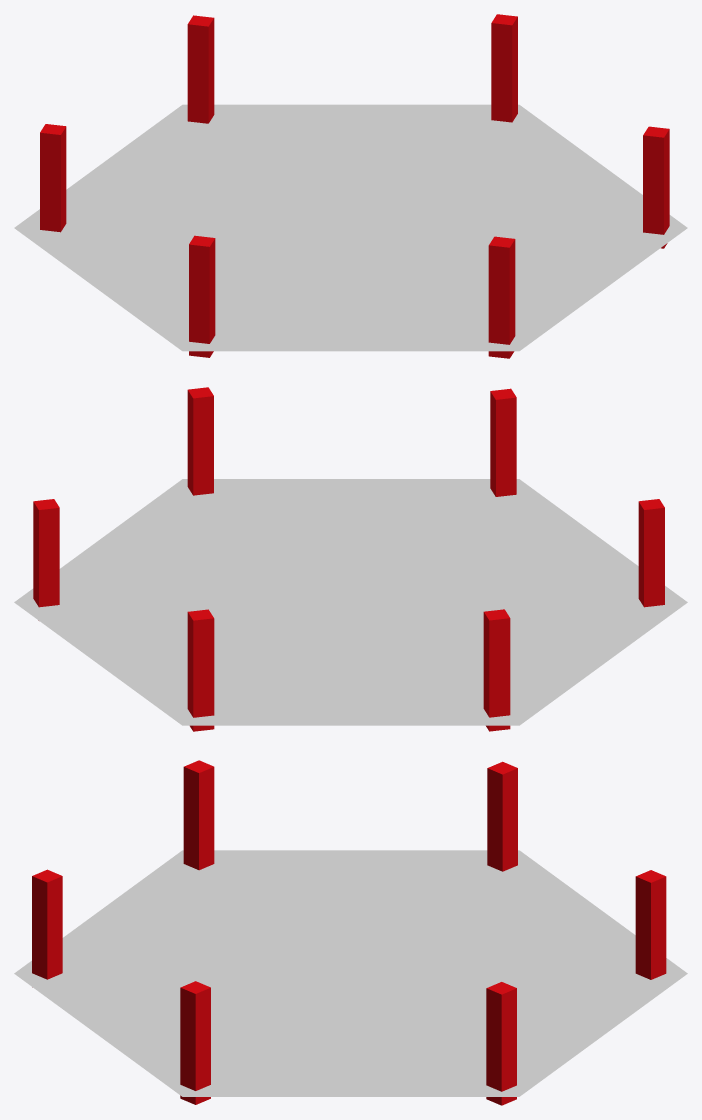
File: FinalBossPlatforms.fbx
3 views of the same model, one above another, from view 1: azimuth 30°, elevation 25°; view 2: azimuth 150°, elevation 25°; view 3: azimuth 270°, elevation 25° (orthographic).
Visible parts, largest first — view 1: Cylinder.001; view 2: Cylinder.001; view 3: Cylinder.001.
Part boxes in pixels (bbox=[...]): Cylinder.001: bbox=[14, 14, 687, 358]; Cylinder.001: bbox=[14, 387, 687, 731]; Cylinder.001: bbox=[14, 760, 687, 1105].
Size of the model in its own units: 3811 by 800 by 4400.
